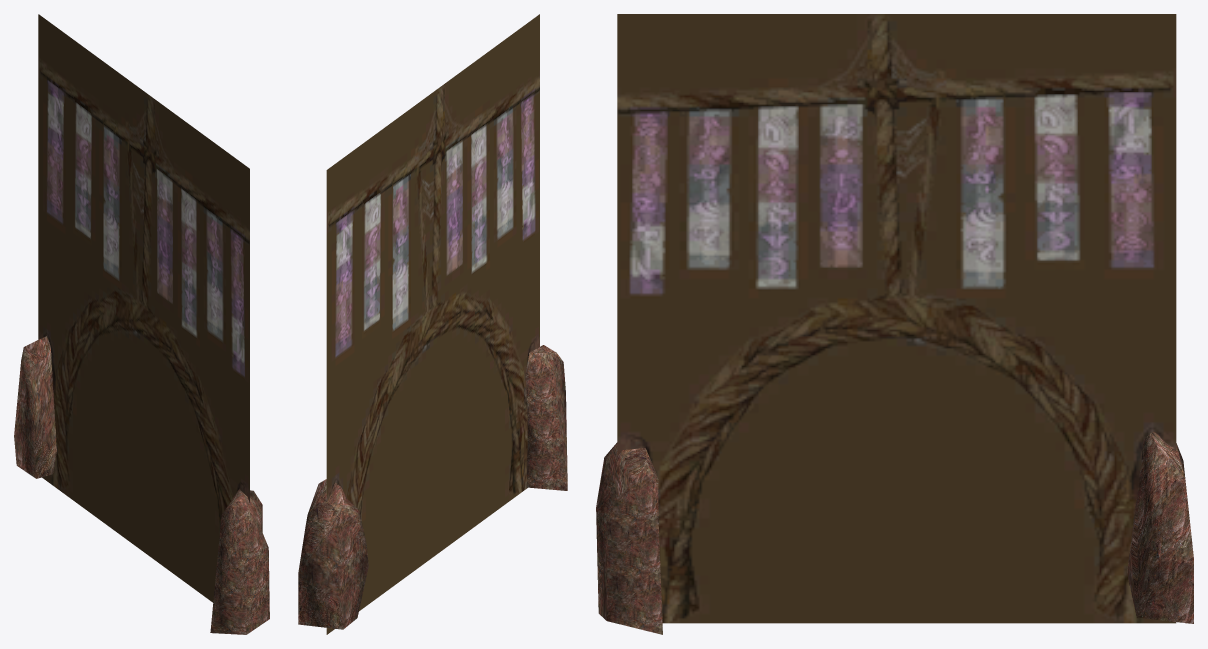
File: thm_dath_night_sister_gate_s01_l4.fbx
3 renders of one model, left to right at view 1: azimuth 30°, elevation 25°; view 2: azimuth 150°, elevation 25°; view 3: azimuth 270°, elevation 25°, orthographic. The views are drawn at different scales.
Visible parts, largest first — view 1: mesh_node; view 2: mesh_node; view 3: mesh_node.
Part boxes in pixels (<box>): mesh_node: <box>14,14,269,634</box>; mesh_node: <box>298,14,567,634</box>; mesh_node: <box>596,14,1193,634</box>.
Bounding box in the file's own units: 1.69 × 11.88 × 10.57.
Materials: 2 (2 with a texture image).
